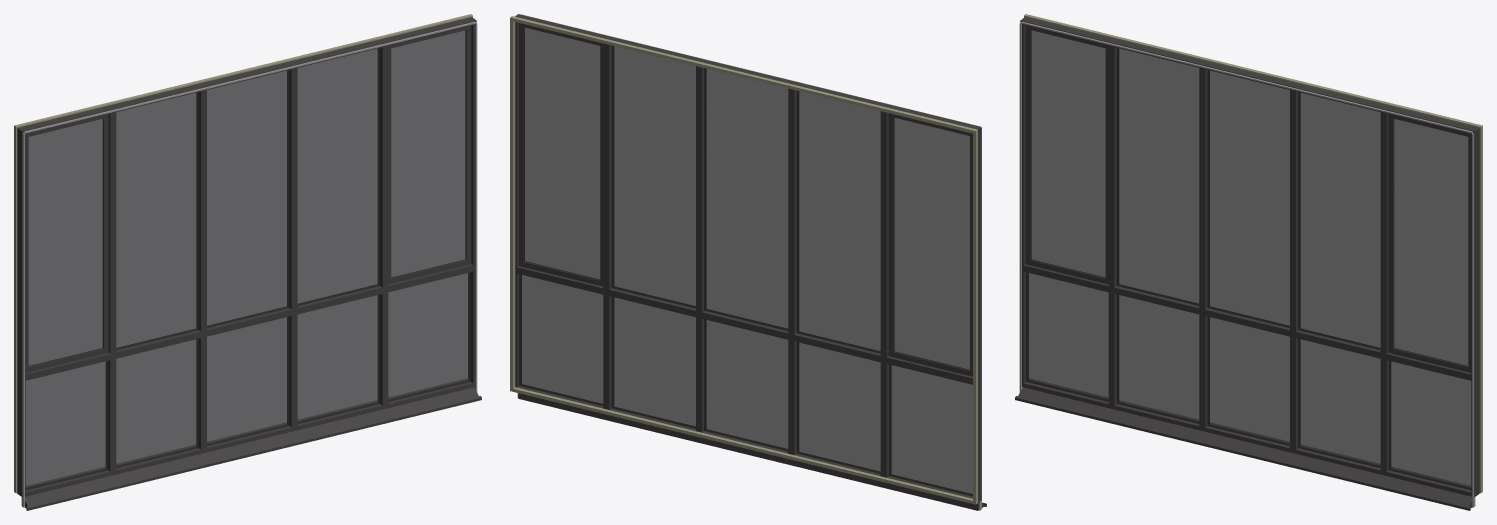
Rendered from window1.FBX.
3 views of the same model, side by side, from view 1: azimuth 30°, elevation 25°; view 2: azimuth 150°, elevation 25°; view 3: azimuth 330°, elevation 25° (orthographic).
Parts seen in each view (by area): view 1: 52:13:4; view 2: 52:13:4; view 3: 52:13:4.
Part boxes in pixels (left/top/right/bottom): 52:13:4: left=14, top=14, right=481, bottom=510; 52:13:4: left=510, top=14, right=986, bottom=510; 52:13:4: left=1015, top=14, right=1482, bottom=510.
Bounding box in the file's own units: 152 × 119 × 6.89.
